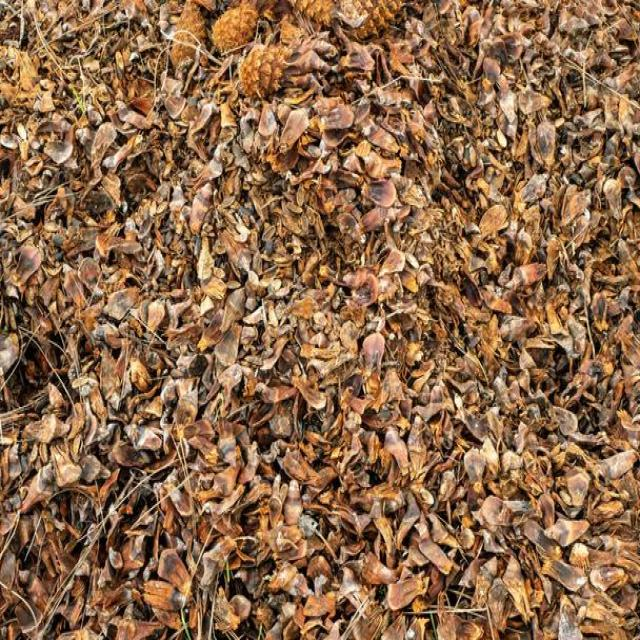organic waste: (2, 4, 496, 362), (264, 392, 616, 604), (8, 368, 194, 573), (562, 148, 610, 251)
